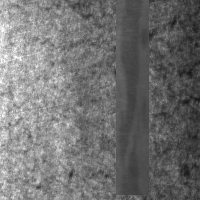crazing: (66, 1, 200, 87), (107, 82, 200, 199)
inclusion: (116, 0, 149, 195)
